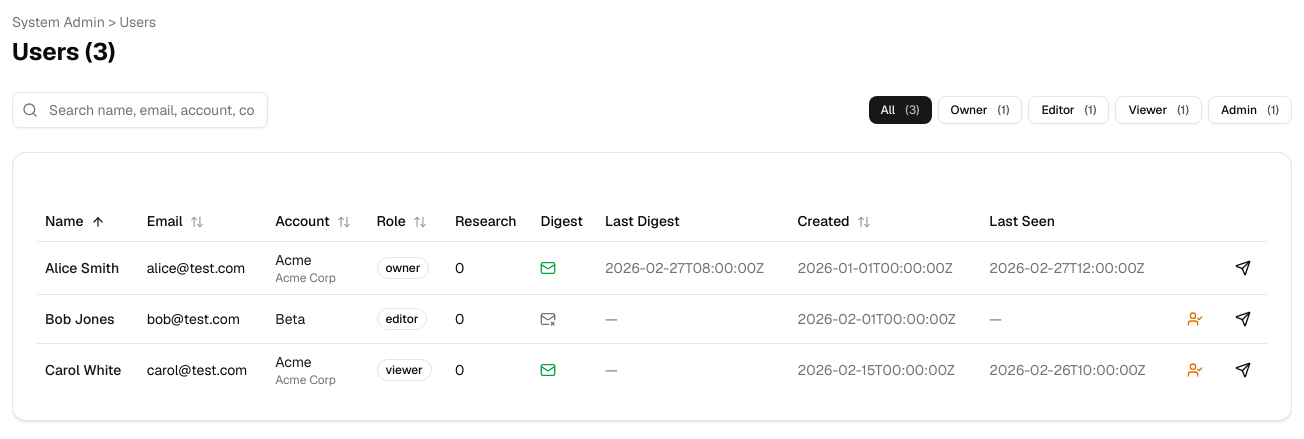
UsersListPage › filters by Admin (system admin users)
Expected: the link "Alice Smith" is shown, [45,258,119,276]
Click the button "Admin (1)" at (1250, 110), box [1208,96,1292,124]
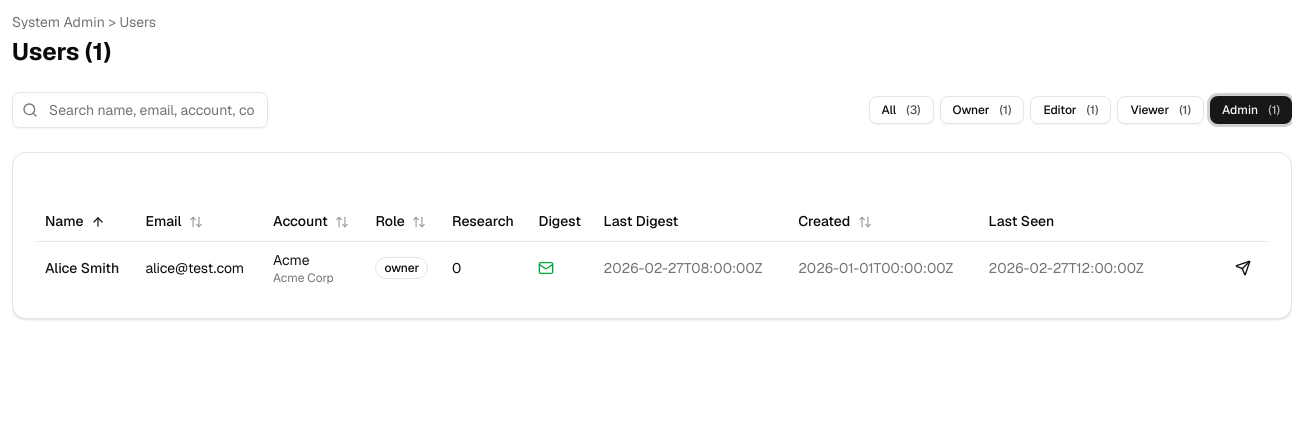
Expected: the link "Alice Smith" is shown, [45,258,119,276]
Expected: the link "Bob Jones" is gone
